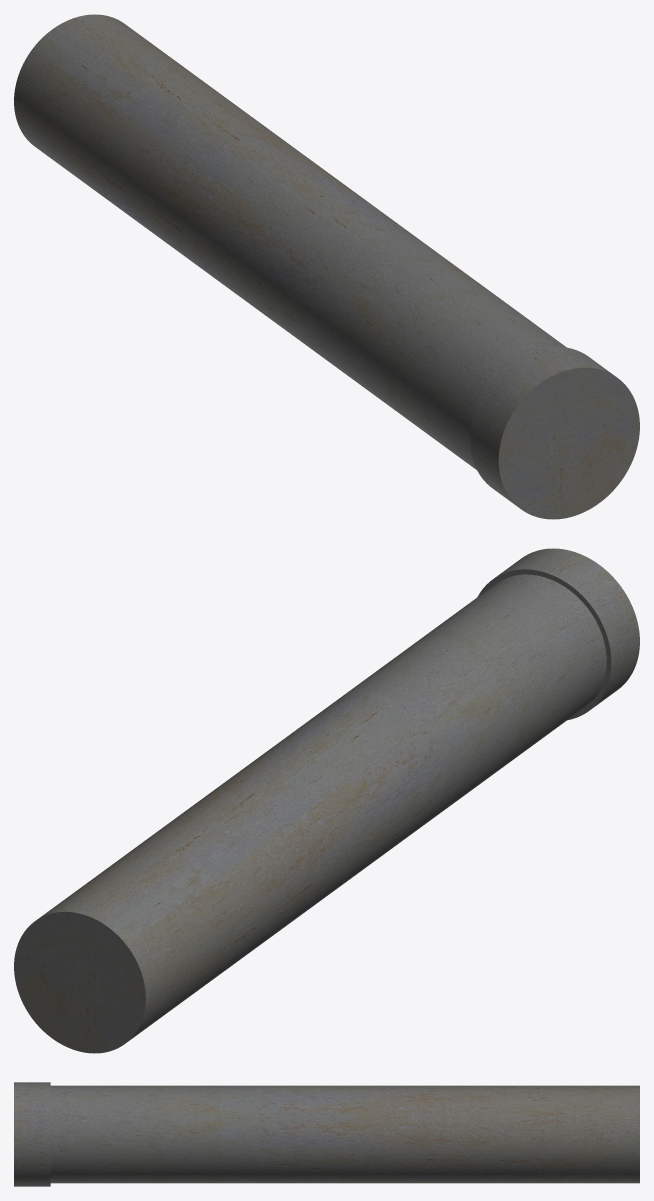
Rendered from gas_lift_rod.glb.
3 renders of one model, top to bottom at view 1: azimuth 30°, elevation 25°; view 2: azimuth 150°, elevation 25°; view 3: azimuth 270°, elevation 25°, orthographic. The views are drawn at different scales.
Visible parts, largest first — view 1: world; view 2: world; view 3: world.
Boxes of the visible parts, x1=… form: world: x1=14, y1=14, x2=639, y2=519; world: x1=14, y1=548, x2=639, y2=1053; world: x1=14, y1=1082, x2=639, y2=1186.
Size of the model in its own units: 30 by 29.99 by 180.
1 material, 1 textured.
